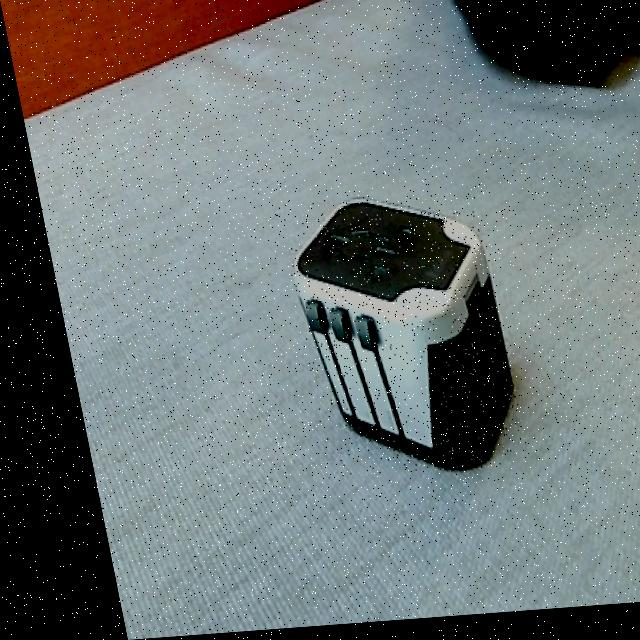adapter: (267, 195, 509, 482)
